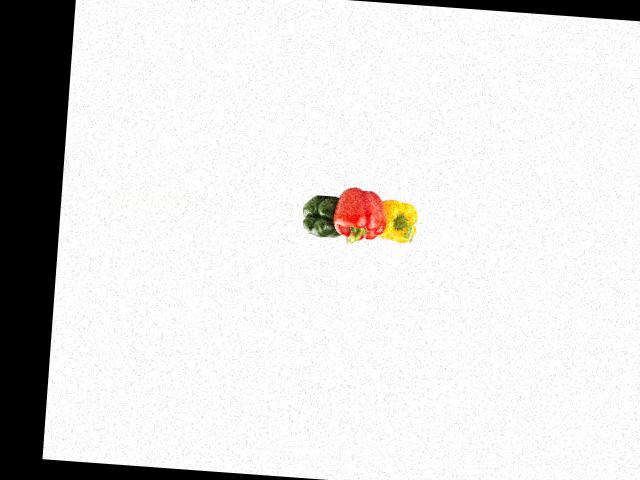bell_pepper: (375, 190, 422, 248)
